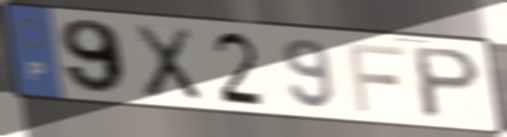2: (210, 30, 268, 109)
9: (60, 17, 132, 99), (281, 37, 337, 111)
F: (345, 40, 409, 115)
P: (411, 44, 485, 122)
X: (129, 23, 205, 104)
